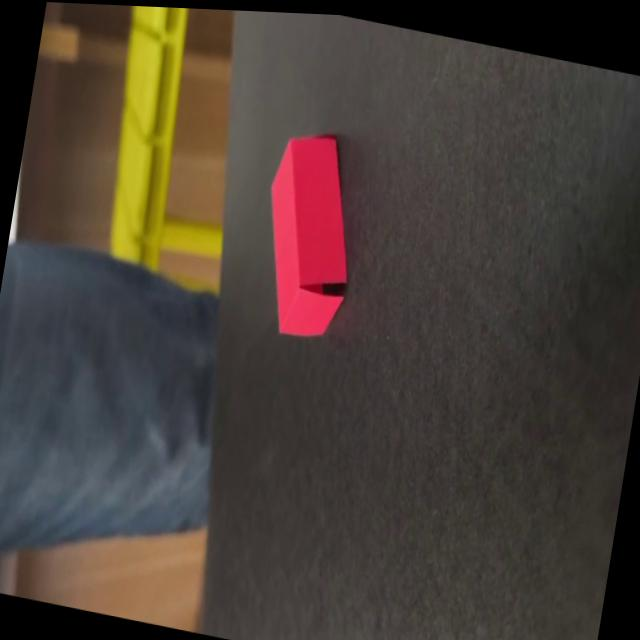red block: (246, 122, 370, 349)
